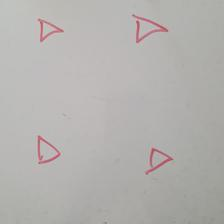specific-recombination-site: (133, 15, 169, 44), (145, 147, 174, 174), (36, 135, 61, 165), (38, 18, 65, 42)
